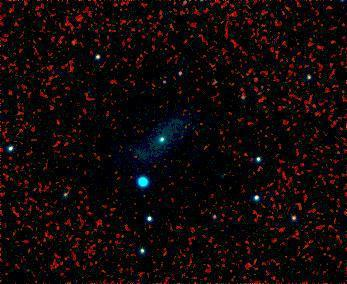star: (63, 26, 93, 56)
